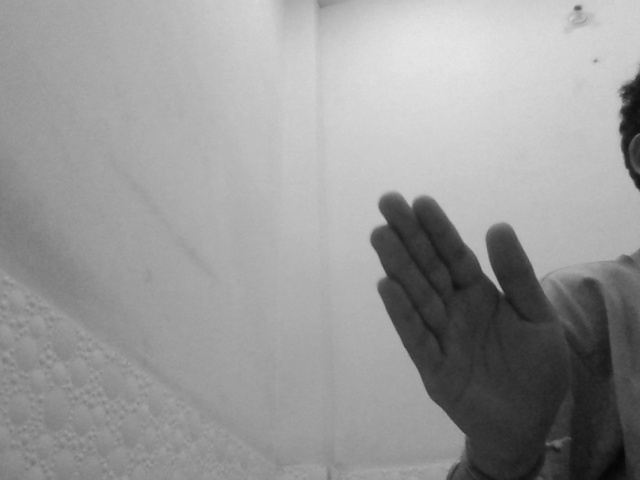Hello: (367, 187, 572, 452)
